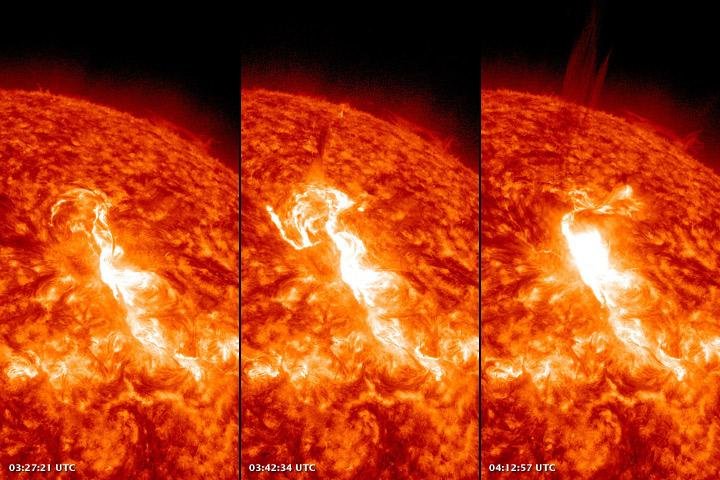fire: (286, 191, 460, 391), (79, 198, 193, 385), (564, 205, 666, 382)
